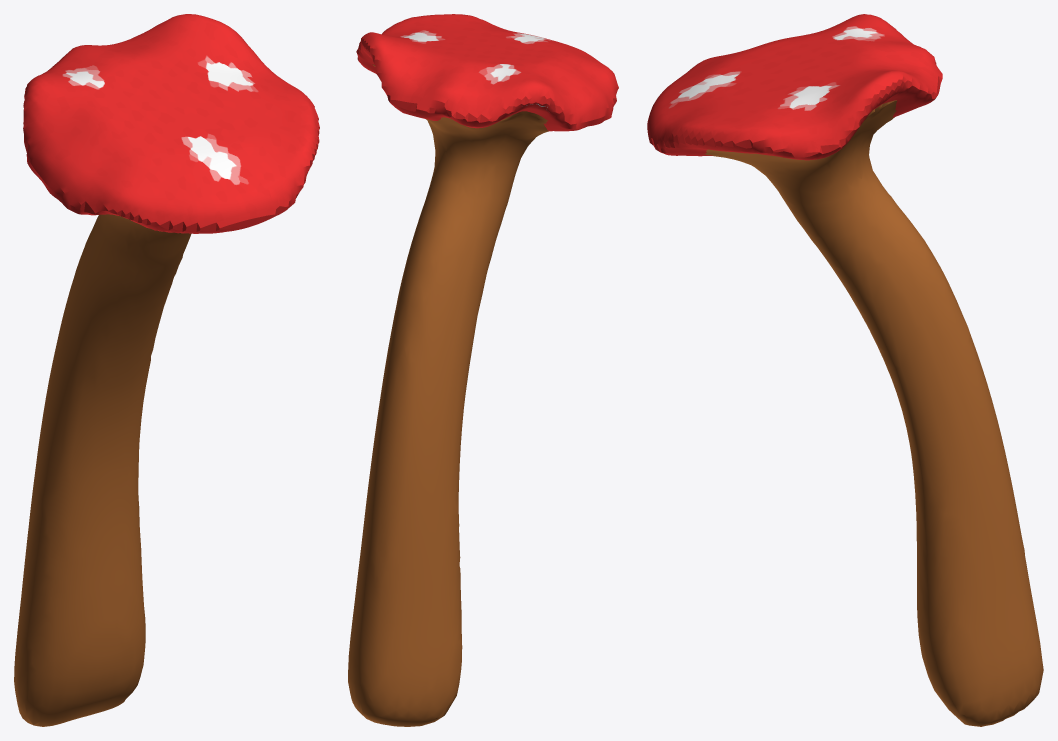
File: BasicMushroomPlatTilted.fbx
The picture shows the model from 3 angles, left to right: view 1: azimuth 30°, elevation 25°; view 2: azimuth 150°, elevation 25°; view 3: azimuth 270°, elevation 25°; orthographic projection. The views are drawn at different scales.
Parts seen in each view (by area): view 1: body; view 2: body; view 3: body.
Part boxes in pixels (left/top/right/bottom): body: left=14, top=14, right=319, bottom=726; body: left=348, top=14, right=618, bottom=726; body: left=647, top=14, right=1043, bottom=726.
Size of the model in its own units: 682 by 1847 by 982.
